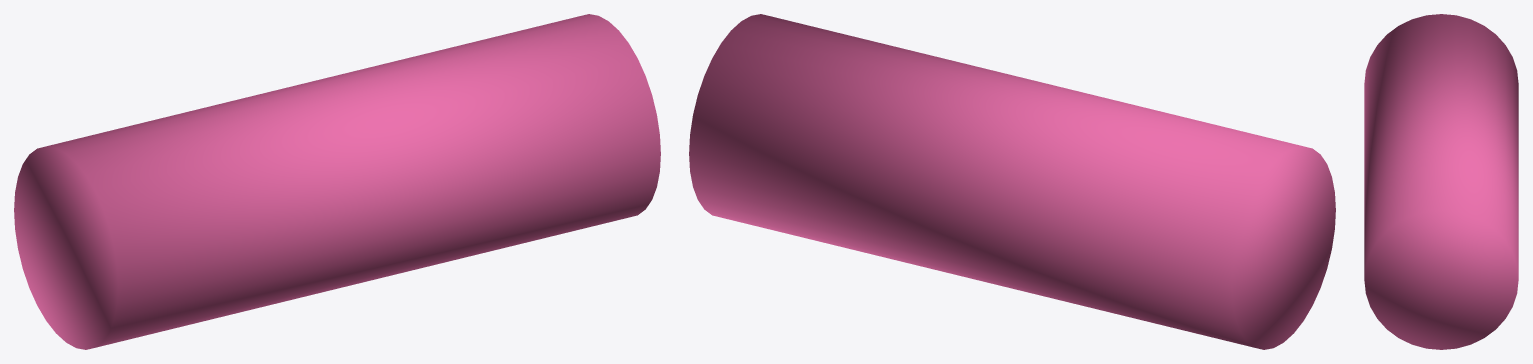
File: Laser.fbx
3 renders of one model, left to right at view 1: azimuth 30°, elevation 25°; view 2: azimuth 150°, elevation 25°; view 3: azimuth 270°, elevation 25°, orthographic. The views are drawn at different scales.
Parts seen in each view (by area): view 1: Circle; view 2: Circle; view 3: Circle.
Boxes of the visible parts, x1,y1,x2,y2 form: Circle: (14,14,660,349); Circle: (689,14,1335,349); Circle: (1364,14,1518,349).
Size of the model in its own units: 215 by 71.45 by 71.45.
